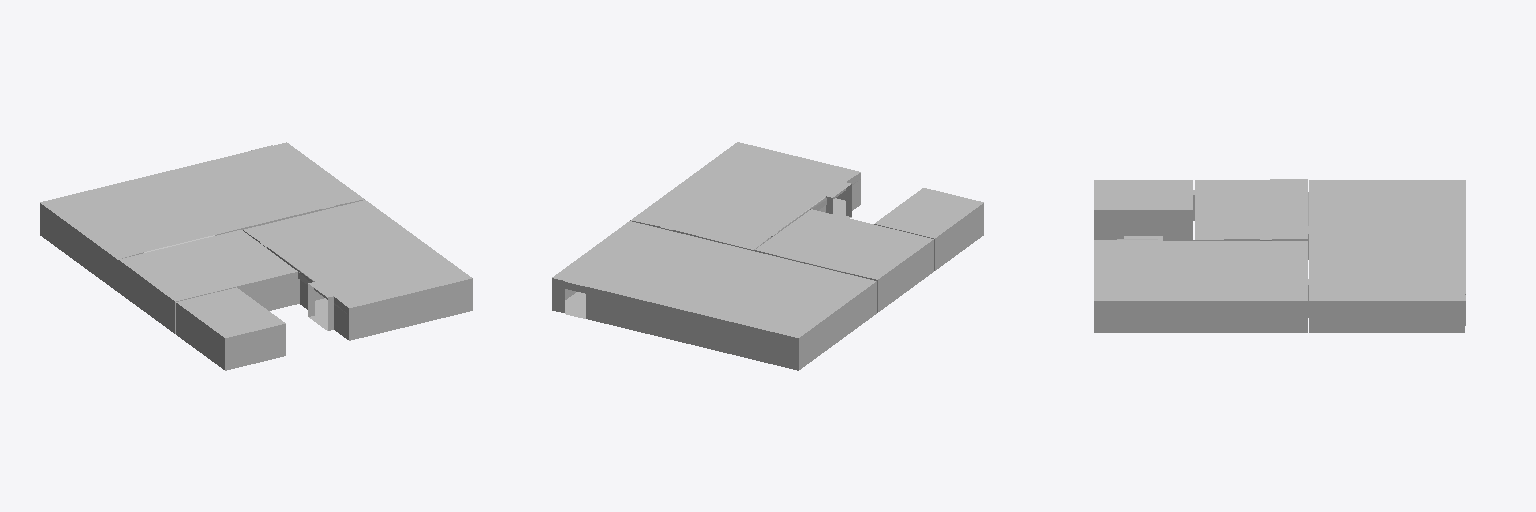
The model's file is top floor collision.obj.
The picture shows the model from 3 angles: view 1: azimuth 30°, elevation 25°; view 2: azimuth 150°, elevation 25°; view 3: azimuth 270°, elevation 25°; orthographic projection.
Visible parts, largest first — view 1: result.004_Cube.019; view 2: result.004_Cube.019; view 3: result.004_Cube.019.
Boxes of the visible parts, x1=… form: result.004_Cube.019: x1=40, y1=142, x2=472, y2=370; result.004_Cube.019: x1=552, y1=142, x2=983, y2=370; result.004_Cube.019: x1=1094, y1=179, x2=1465, y2=332.
Size of the model in its own units: 19.9 by 2.58 by 26.